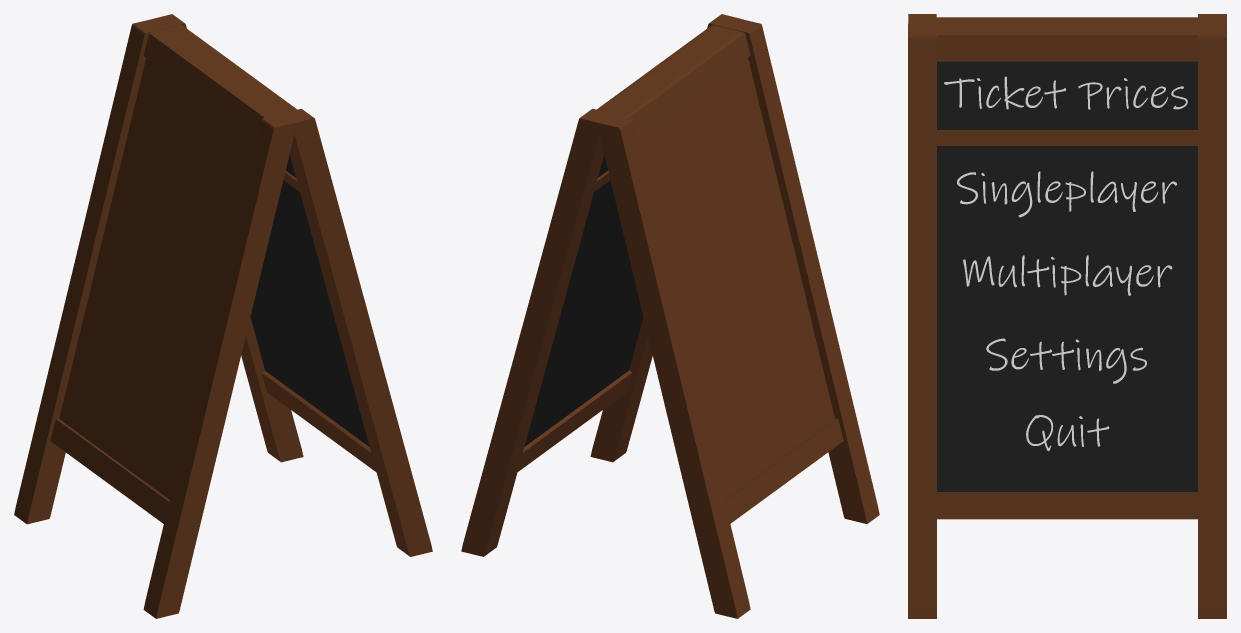
Rendered from Chalkboard.fbx.
3 renders of one model, left to right at view 1: azimuth 30°, elevation 25°; view 2: azimuth 150°, elevation 25°; view 3: azimuth 270°, elevation 25°, orthographic. The views are drawn at different scales.
Visible parts, largest first — view 1: ChalkBack, LegBackLeft, LegFrontLeft, ChalkFront, LegBackRight, BarTop, LeftFrontRight, BarBottomBack, BarBottomFront; view 2: ChalkBack, LegBackRight, LeftFrontRight, ChalkFront, LegBackLeft, BarTop, LegFrontLeft, BarBottomBack, BarBottomFront; view 3: ChalkFront, LegFrontLeft, LeftFrontRight, BarTop, BarBottomFront, BarSeparater, TextSingeplayer, TextMultiplayer, TextTicketPrices, TextSettings, QuitText.
Part boxes in pixels (x1=…): ChalkBack: x1=59, y1=58, x2=256, y2=499; LegBackLeft: x1=143, y1=114, x2=294, y2=618; LegFrontLeft: x1=281, y1=108, x2=432, y2=556; ChalkFront: x1=250, y1=154, x2=369, y2=446; LegBackRight: x1=14, y1=19, x2=167, y2=524; BarTop: x1=143, y1=25, x2=296, y2=138; LeftFrontRight: x1=153, y1=14, x2=303, y2=462; BarBottomBack: x1=50, y1=419, x2=169, y2=523; BarBottomFront: x1=261, y1=371, x2=376, y2=472; ChalkBack: x1=637, y1=58, x2=834, y2=499; LegBackRight: x1=597, y1=113, x2=750, y2=618; LeftFrontRight: x1=461, y1=108, x2=611, y2=556; ChalkFront: x1=524, y1=155, x2=643, y2=446; LegBackLeft: x1=729, y1=19, x2=879, y2=523; BarTop: x1=597, y1=25, x2=750, y2=138; LegFrontLeft: x1=590, y1=14, x2=743, y2=462; BarBottomBack: x1=724, y1=418, x2=843, y2=523; BarBottomFront: x1=517, y1=371, x2=632, y2=471; ChalkFront: x1=937, y1=61, x2=1197, y2=491; LegFrontLeft: x1=908, y1=24, x2=936, y2=618; LeftFrontRight: x1=1198, y1=25, x2=1226, y2=618; BarTop: x1=936, y1=17, x2=1197, y2=61; BarBottomFront: x1=937, y1=492, x2=1197, y2=519; BarSeparater: x1=937, y1=130, x2=1197, y2=145; TextSingeplayer: x1=957, y1=171, x2=1176, y2=217; TextMultiplayer: x1=963, y1=255, x2=1172, y2=295; TextTicketPrices: x1=944, y1=76, x2=1187, y2=109; TextSettings: x1=986, y1=338, x2=1146, y2=383; QuitText: x1=1026, y1=415, x2=1109, y2=451.
Bounding box in the file's own units: 247 × 395 × 220.
